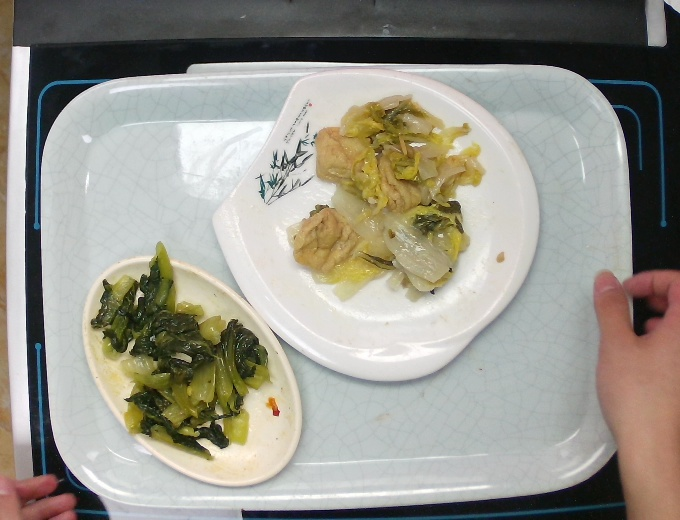JYsf-Mian_Pan: (208, 64, 544, 386)
JYsf-Tuo_Yuan_Wan: (77, 252, 306, 492)
